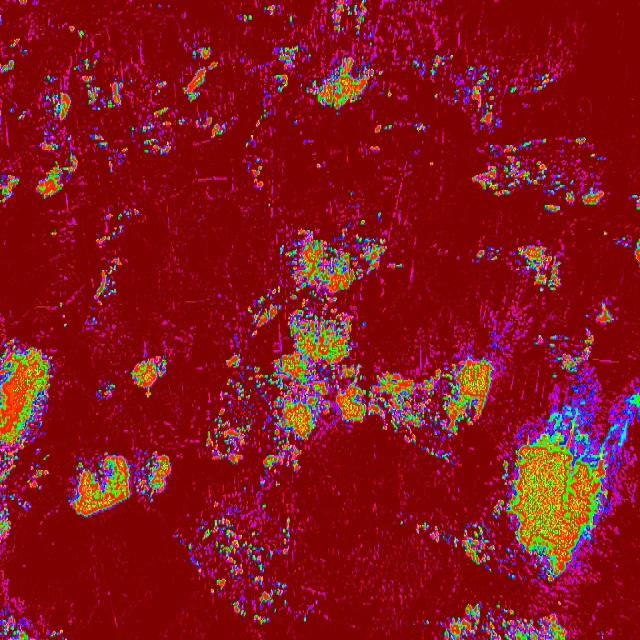fire: (203, 216, 497, 480), (500, 327, 640, 582), (186, 484, 313, 630), (473, 132, 611, 216), (0, 332, 55, 542), (66, 454, 172, 516), (425, 599, 568, 640), (36, 73, 80, 204), (398, 518, 498, 574), (306, 48, 385, 114), (178, 44, 229, 138), (453, 64, 505, 131), (87, 252, 123, 324), (87, 123, 136, 175), (142, 76, 174, 154), (514, 242, 562, 292), (244, 106, 271, 192), (79, 72, 135, 112), (130, 350, 171, 398), (98, 204, 142, 248), (331, 0, 372, 41), (599, 228, 640, 268), (1, 34, 30, 85), (405, 52, 457, 78), (585, 295, 620, 327), (372, 119, 432, 136), (0, 609, 31, 640), (530, 69, 559, 99), (1, 168, 19, 212), (92, 379, 120, 406), (277, 40, 302, 69), (54, 299, 71, 335), (72, 55, 101, 74), (273, 74, 294, 98), (68, 22, 88, 44), (7, 105, 31, 123), (263, 1, 285, 18), (48, 625, 68, 640), (240, 11, 256, 29), (631, 185, 640, 216), (46, 226, 62, 242), (429, 91, 444, 108), (384, 86, 397, 100), (287, 13, 296, 32), (15, 0, 34, 8), (507, 86, 519, 98), (306, 136, 316, 150), (291, 114, 299, 130), (428, 158, 435, 172)
